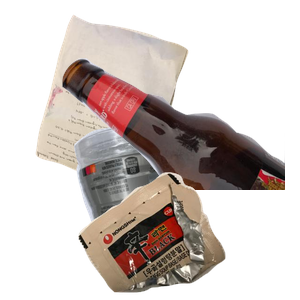glass: (60, 56, 300, 236)
paper: (33, 12, 214, 192)
plastic: (71, 120, 265, 300)
trash: (76, 170, 300, 300)
